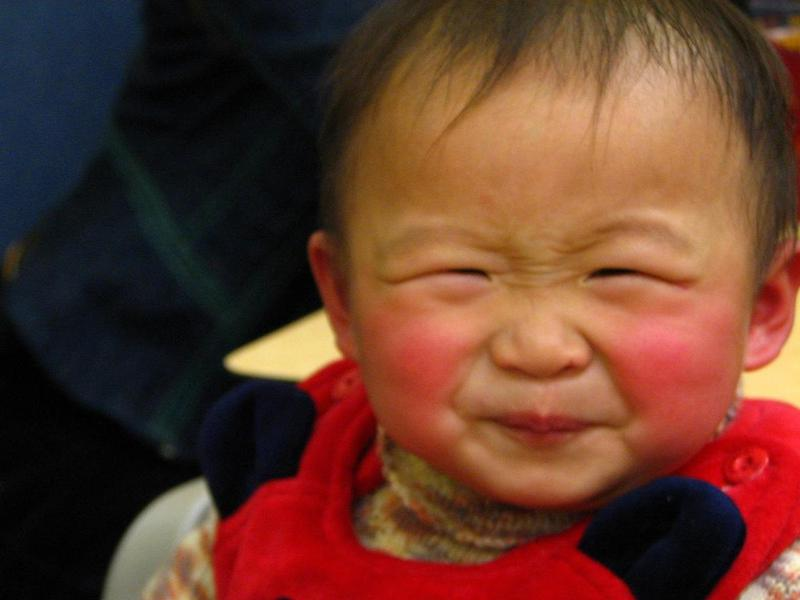person: (177, 2, 800, 600)
